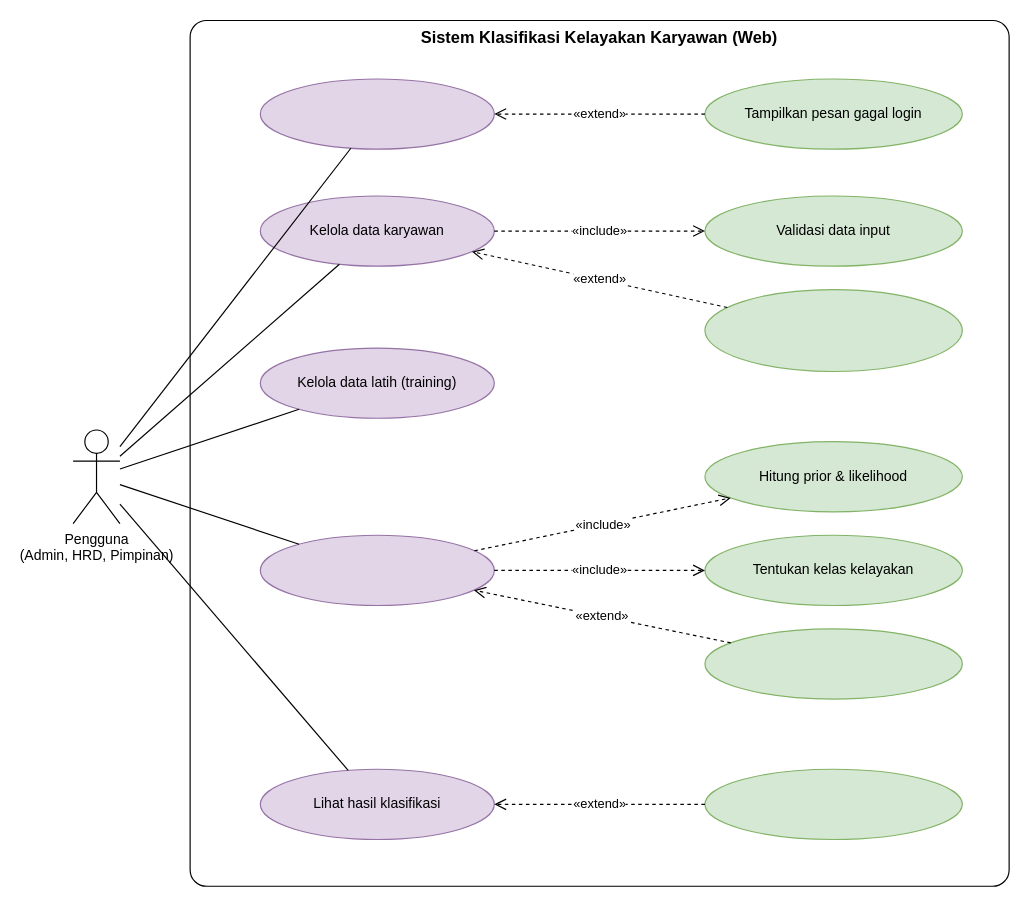
The diagram is 1030 pixels wide and 907 high, and some of its shapes have lost their labels. The centre of each missing label's shape, as x and y in pixels:
"Cetak laporan" belongs at [833,803].
"Hitung akurasi model" belongs at [833,663].
"Login" belongs at [376,113].
"Proses klasifikasi Naive Bayes" belongs at [376,569].
"Tambah / ubah / hapus data karyawan" belongs at [833,329].
